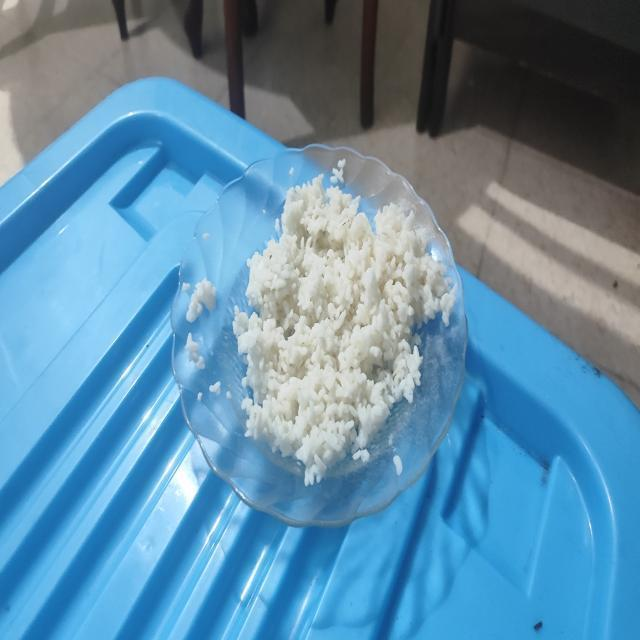nasi_putih: (233, 175, 457, 485)
